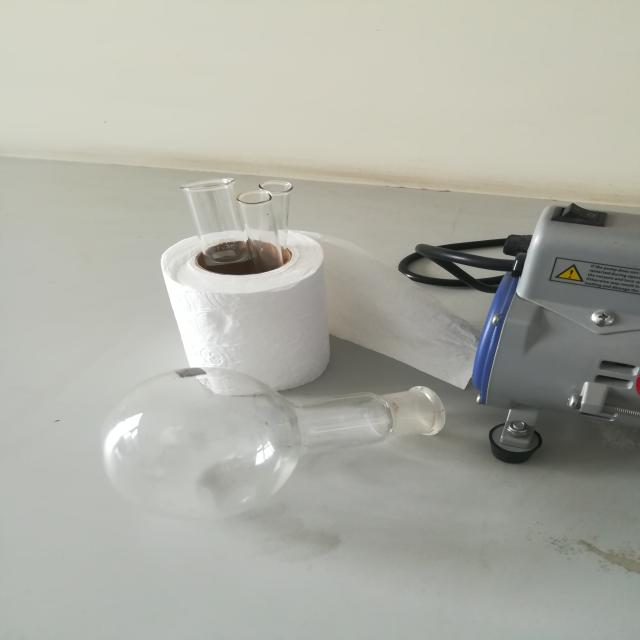Round_Bottom_Flask_Borosilicate_Glass_1_Neck: (65, 340, 481, 558)
